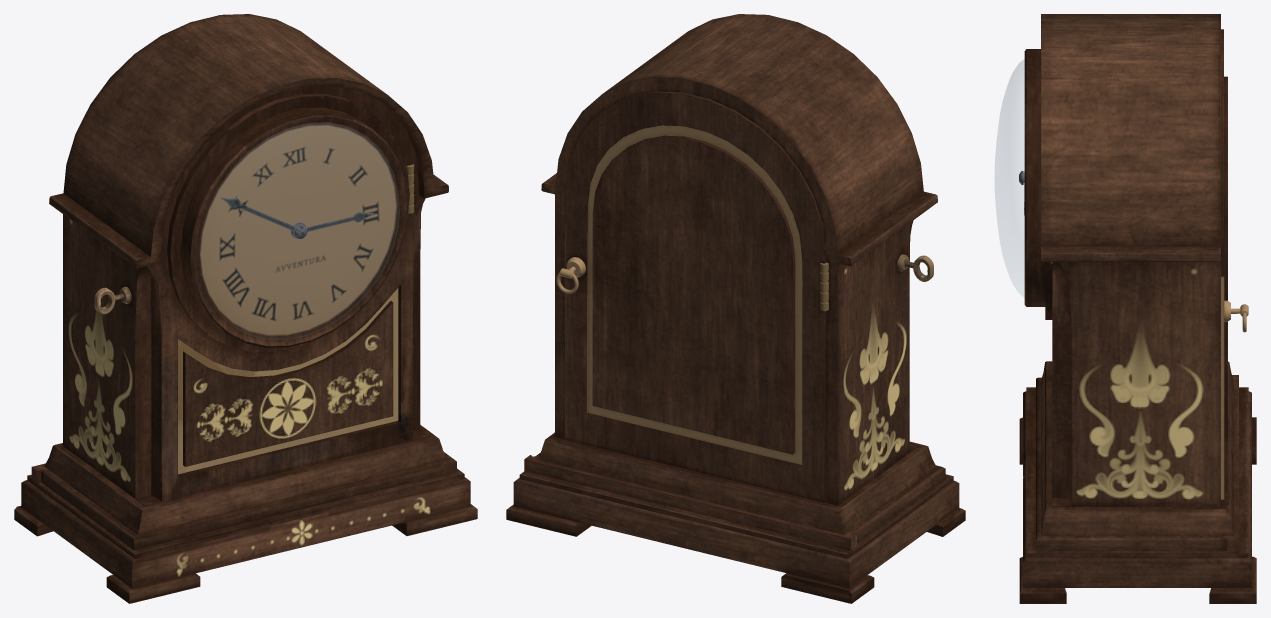
Rendered from victorian_clock.glb.
3 renders of one model, left to right at view 1: azimuth 30°, elevation 25°; view 2: azimuth 150°, elevation 25°; view 3: azimuth 270°, elevation 25°, orthographic. The views are drawn at different scales.
Visible parts, largest first — view 1: polySurface6; view 2: polySurface6; view 3: polySurface6, pasted__polySurface1.
Part boxes in pixels (x1,y1,x2,y2): polySurface6: (14,14,477,603); polySurface6: (506,14,965,603); polySurface6: (1019,14,1256,603); pasted__polySurface1: (994,59,1024,296).
Size of the model in its own units: 0.0301 by 0.0389 by 0.019.
3 materials, 3 textured.
